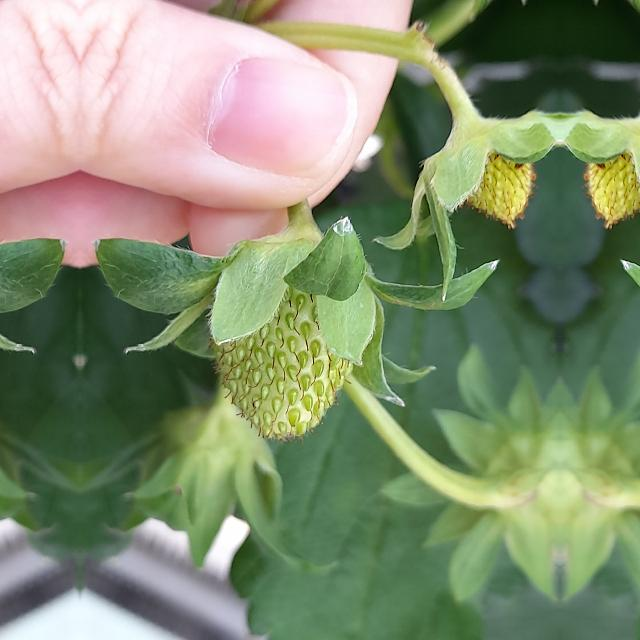Health_25: (206, 244, 374, 443)
